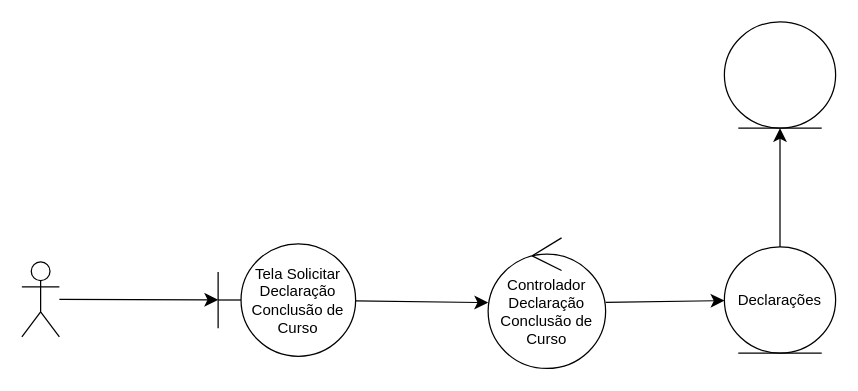
The diagram is 858 pixels wide and 391 high, and some of its shapes have lost their labels. Each missing label, with the box of its shape:
Aluno: (21, 261, 59, 337)
ProjetoTCC: (723, 21, 836, 128)
